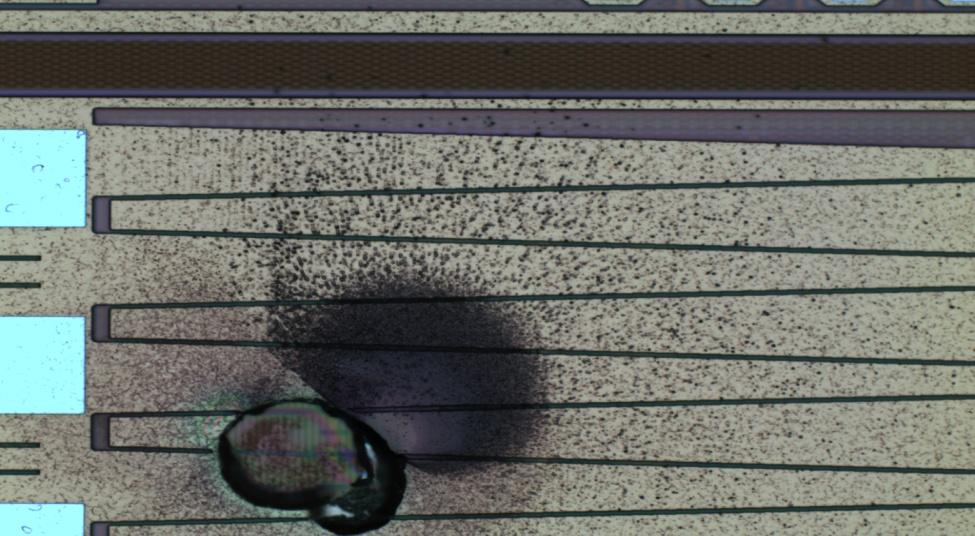PO CONTAMINATION: (11, 66, 816, 536)
